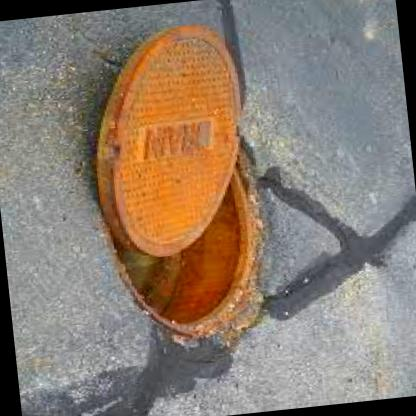manholes: (37, 0, 306, 372)
